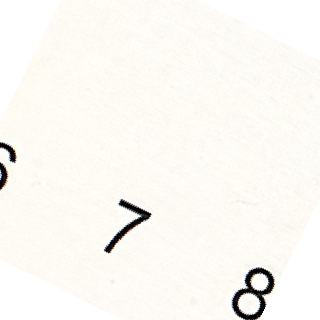eight: (227, 264, 278, 320)
seven: (102, 197, 155, 258)
